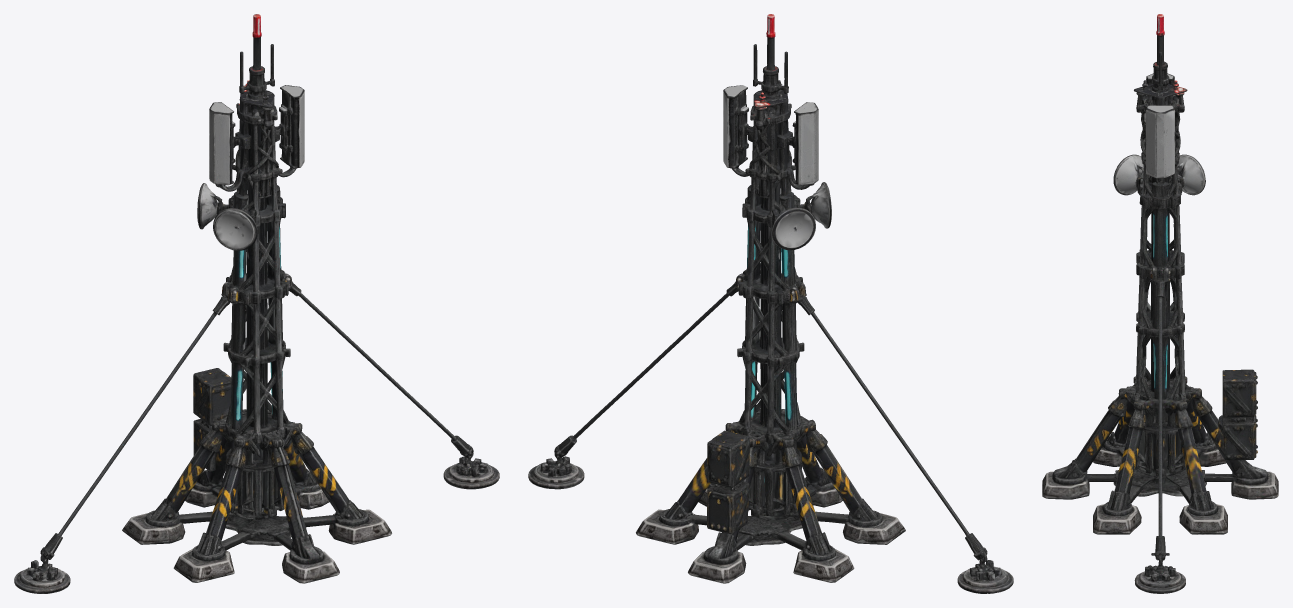
File: neon_tower.glb
3 renders of one model, left to right at view 1: azimuth 30°, elevation 25°; view 2: azimuth 150°, elevation 25°; view 3: azimuth 270°, elevation 25°, orthographic. The views are drawn at different scales.
Visible parts, largest first — view 1: neon_tower; view 2: neon_tower; view 3: neon_tower.
Part boxes in pixels (x1=…): neon_tower: x1=14, y1=14, x2=499, y2=593; neon_tower: x1=528, y1=14, x2=1013, y2=593; neon_tower: x1=1042, y1=14, x2=1278, y2=593.
Size of the model in its own units: 184 by 190 by 85.77.
1 material, 1 textured.
